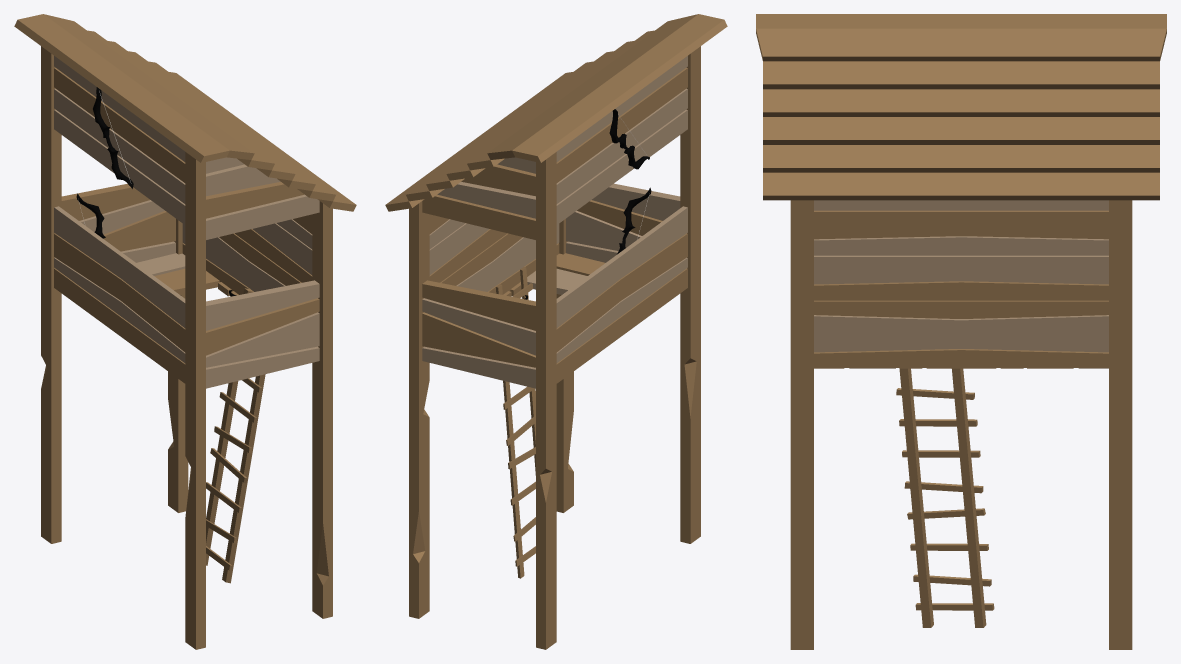
The model's file is Hunter.fbx.
3 views of the same model, side by side, from view 1: azimuth 30°, elevation 25°; view 2: azimuth 150°, elevation 25°; view 3: azimuth 270°, elevation 25° (orthographic). The views are drawn at different scales.
Parts seen in each view (by area): view 1: Hunter Hut; view 2: Hunter Hut; view 3: Hunter Hut.
Part boxes in pixels (box(x1,y1,x2,y2)): Hunter Hut: box(14, 14, 356, 649); Hunter Hut: box(385, 14, 727, 649); Hunter Hut: box(756, 14, 1166, 649).
Bounding box in the file's own units: 162 × 494 × 329.
